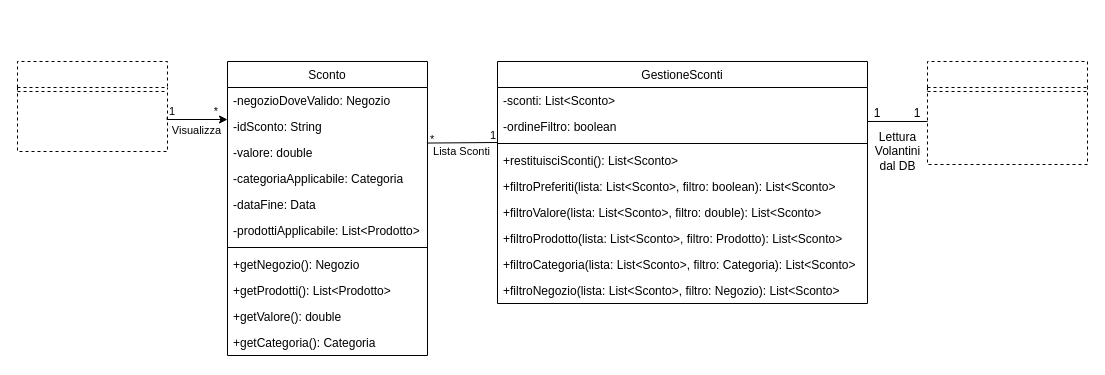
This 1105x375 diagram has some shape labels left out. Each missing label, with the centre of its shape:
LetturaDBDati: [1007,112]
Utente: [92,106]
